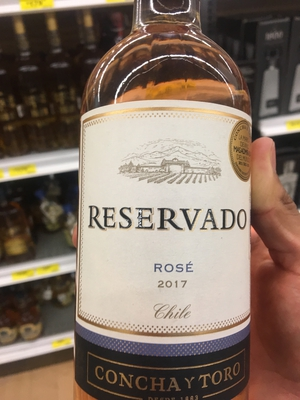reservado rose: (74, 30, 253, 392)
